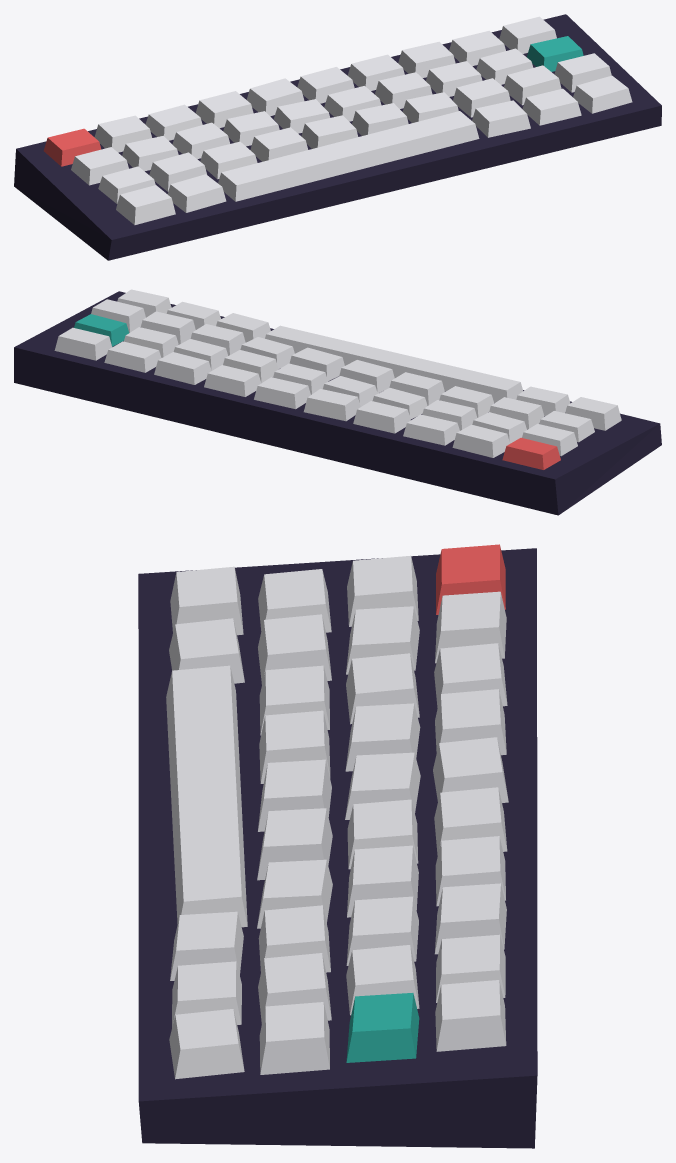
File: keyboard.fbx
3 renders of one model, top to bottom at view 1: azimuth 30°, elevation 25°; view 2: azimuth 150°, elevation 25°; view 3: azimuth 270°, elevation 25°, orthographic. The views are drawn at different scales.
Visible parts, largest first — view 1: keyboard; view 2: keyboard; view 3: keyboard.
Part boxes in pixels (x1,y1,x2,y2): keyboard: (14,14,661,260); keyboard: (14,289,661,515); keyboard: (138,544,537,1148).
Bounding box in the file's own units: 0.4474 × 0.0383 × 0.1406.
